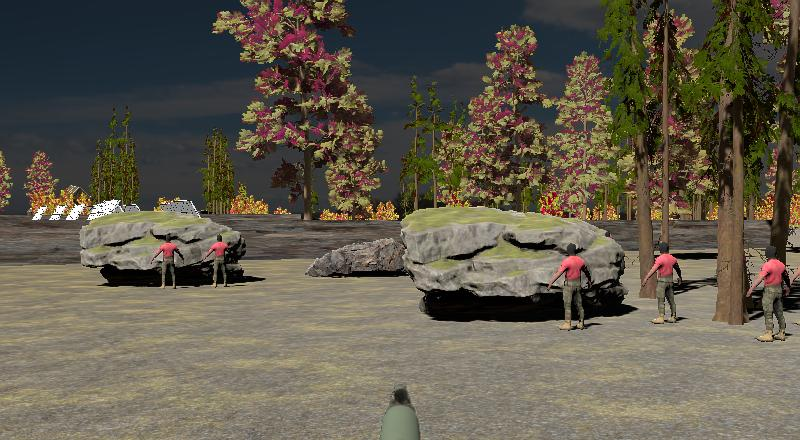Human: (747, 245, 792, 343), (549, 243, 594, 331), (642, 241, 683, 326), (642, 241, 683, 325), (151, 233, 186, 290), (204, 233, 232, 289)
